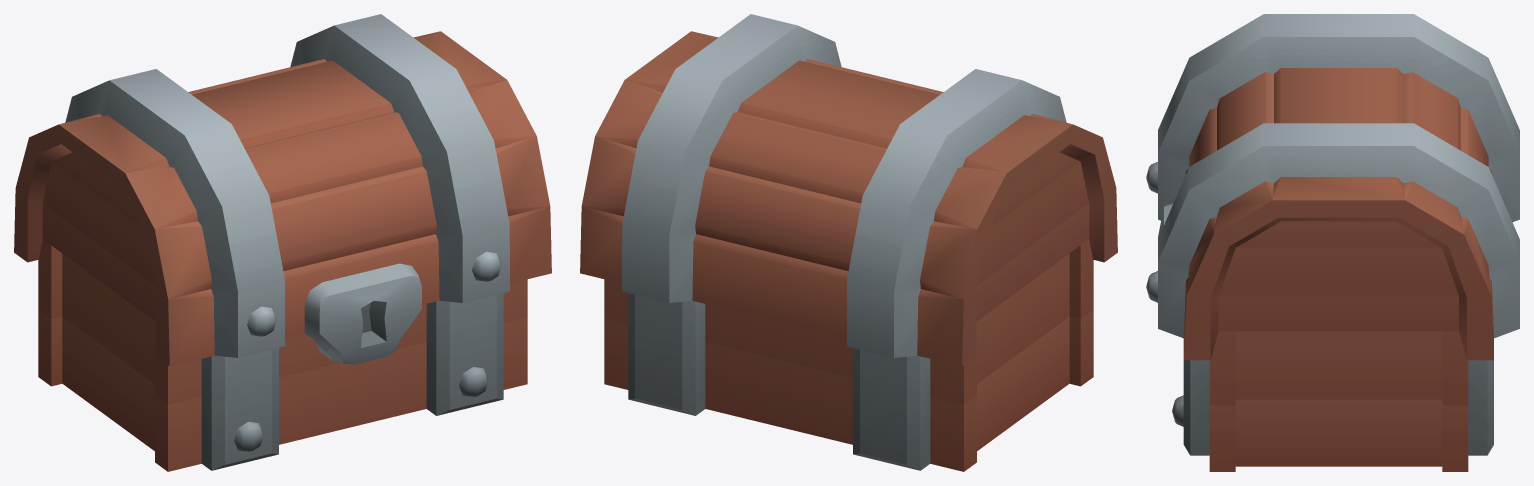
Rendered from chest.2fb3aabc.glb.
3 renders of one model, left to right at view 1: azimuth 30°, elevation 25°; view 2: azimuth 150°, elevation 25°; view 3: azimuth 270°, elevation 25°, orthographic.
Parts seen in each view (by area): view 1: chest; view 2: chest; view 3: chest.
Part boxes in pixels (x1,y1,x2,y2): chest: [14, 14, 551, 471]; chest: [580, 14, 1117, 471]; chest: [1146, 14, 1519, 471].
Size of the model in its own units: 1.7 by 1.3 by 1.45.
Materials: 1 (1 with a texture image).
